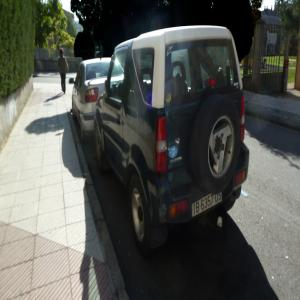Vehicle-registration-plate: (193, 194, 223, 218)
